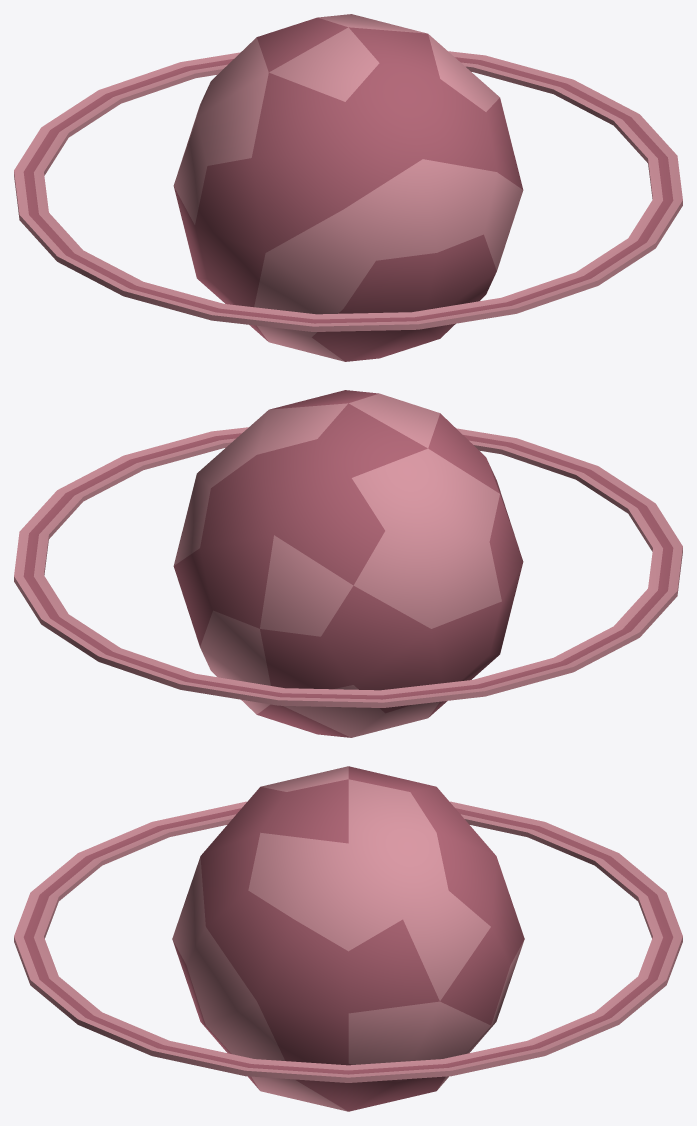
Rendered from planetWithRings.fbx.
The picture shows the model from 3 angles, top to bottom: view 1: azimuth 30°, elevation 25°; view 2: azimuth 150°, elevation 25°; view 3: azimuth 270°, elevation 25°; orthographic projection.
Parts seen in each view (by area): view 1: planet4; view 2: planet4; view 3: planet4.
Boxes of the visible parts, x1=… form: planet4: x1=14, y1=14, x2=682, y2=361; planet4: x1=14, y1=390, x2=682, y2=737; planet4: x1=14, y1=766, x2=682, y2=1111.
Bounding box in the file's own units: 8.58 × 4.52 × 8.58.
